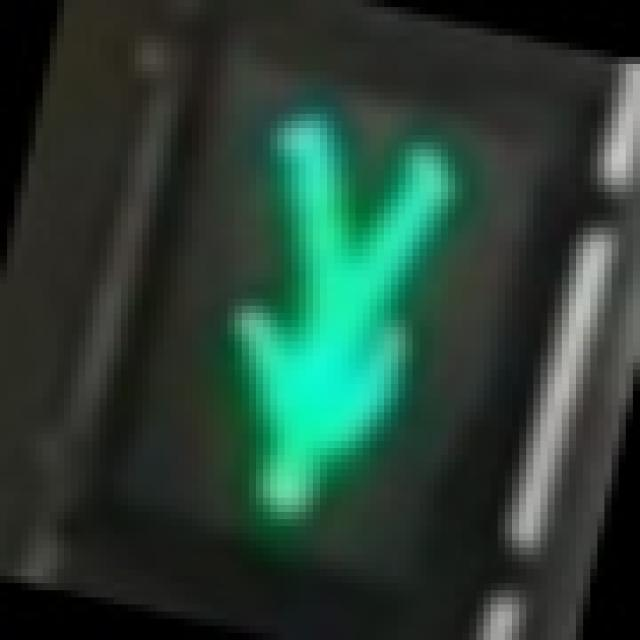green-light: (151, 79, 471, 549)
